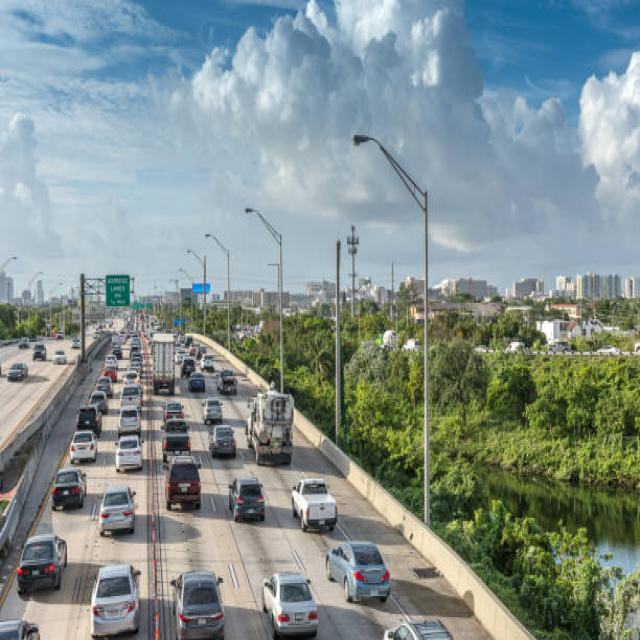16-Wheelers: (245, 389, 294, 466), (152, 332, 174, 394)
Car: (325, 539, 391, 603), (90, 562, 141, 638), (261, 570, 318, 638), (169, 570, 225, 638), (16, 532, 67, 594), (290, 477, 338, 533), (228, 476, 266, 521), (382, 618, 454, 638), (0, 619, 40, 638)
Traffic-sign: (104, 274, 130, 306)
